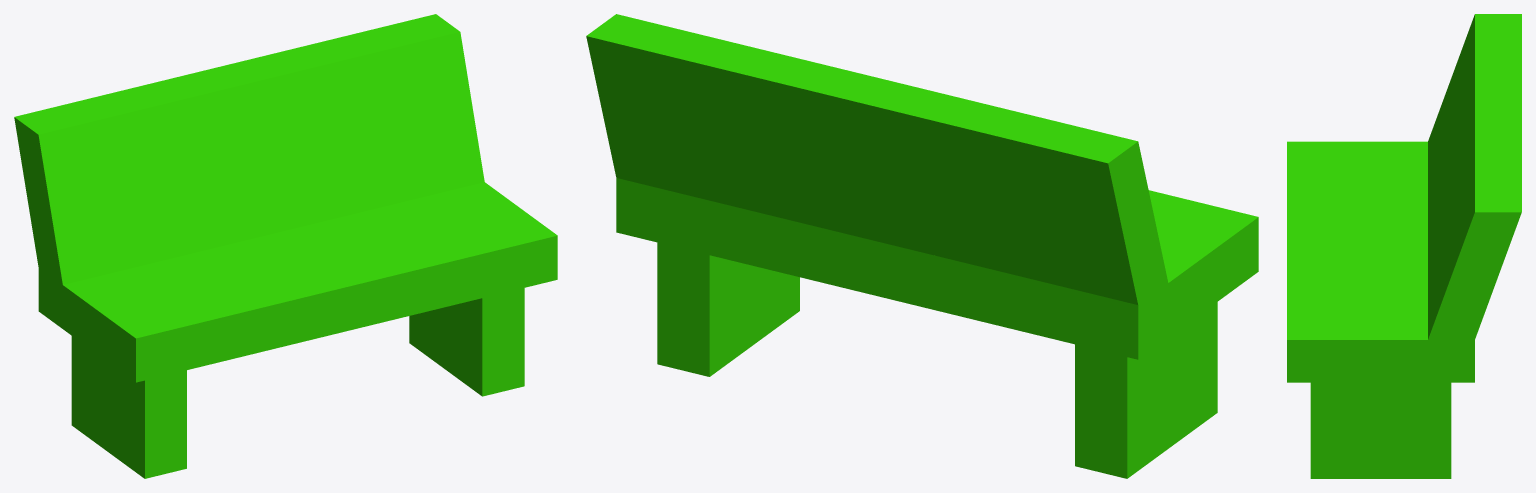
The model's file is bench02.fbx.
3 renders of one model, left to right at view 1: azimuth 30°, elevation 25°; view 2: azimuth 150°, elevation 25°; view 3: azimuth 270°, elevation 25°, orthographic. The views are drawn at different scales.
Visible parts, largest first — view 1: bench02; view 2: bench02; view 3: bench02.
Part boxes in pixels (<box>): bench02: <box>14,14,557,478</box>; bench02: <box>586,14,1258,478</box>; bench02: <box>1287,14,1521,478</box>.
Bounding box in the file's own units: 200 × 130 × 100.
